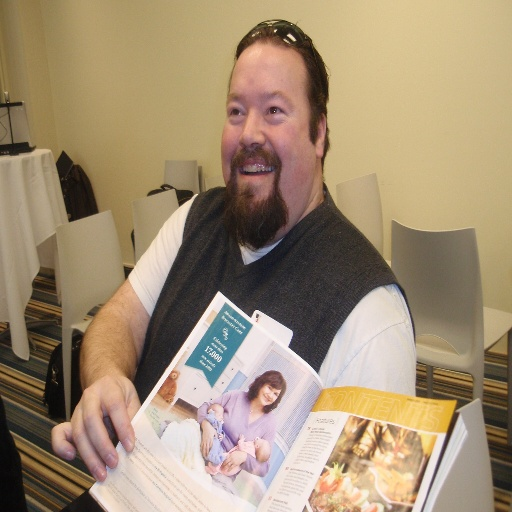hand: (49, 372, 140, 483), (199, 423, 217, 456), (219, 450, 242, 473), (217, 432, 224, 442), (238, 432, 245, 441)
